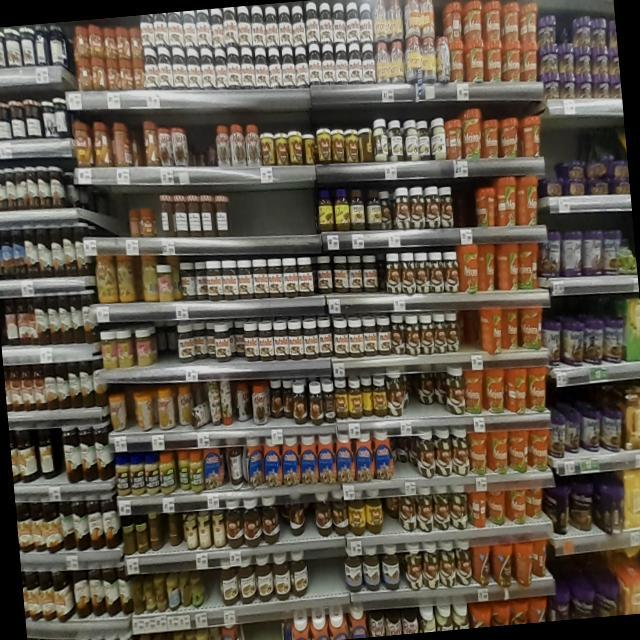produto: (142, 9, 365, 91), (241, 306, 464, 359), (242, 428, 393, 487), (467, 422, 552, 482), (472, 535, 552, 588)
vazio: (223, 172, 326, 242), (77, 174, 167, 242)
